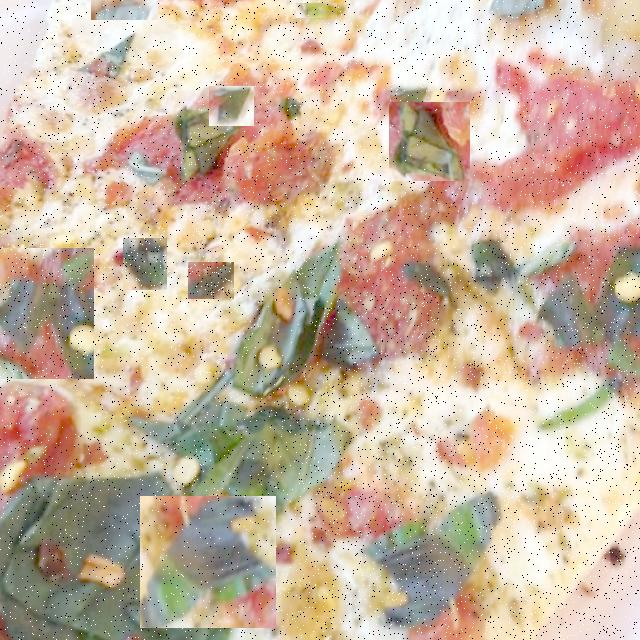Basil: (290, 243, 639, 640), (140, 496, 276, 628), (0, 248, 94, 379), (389, 102, 470, 181), (22, 379, 100, 433), (262, 302, 311, 364), (123, 238, 167, 290), (209, 86, 254, 126), (188, 262, 234, 299), (91, 0, 158, 20), (296, 3, 337, 18)
